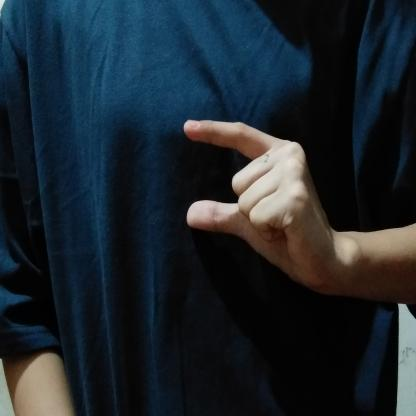small: (167, 111, 353, 307)
